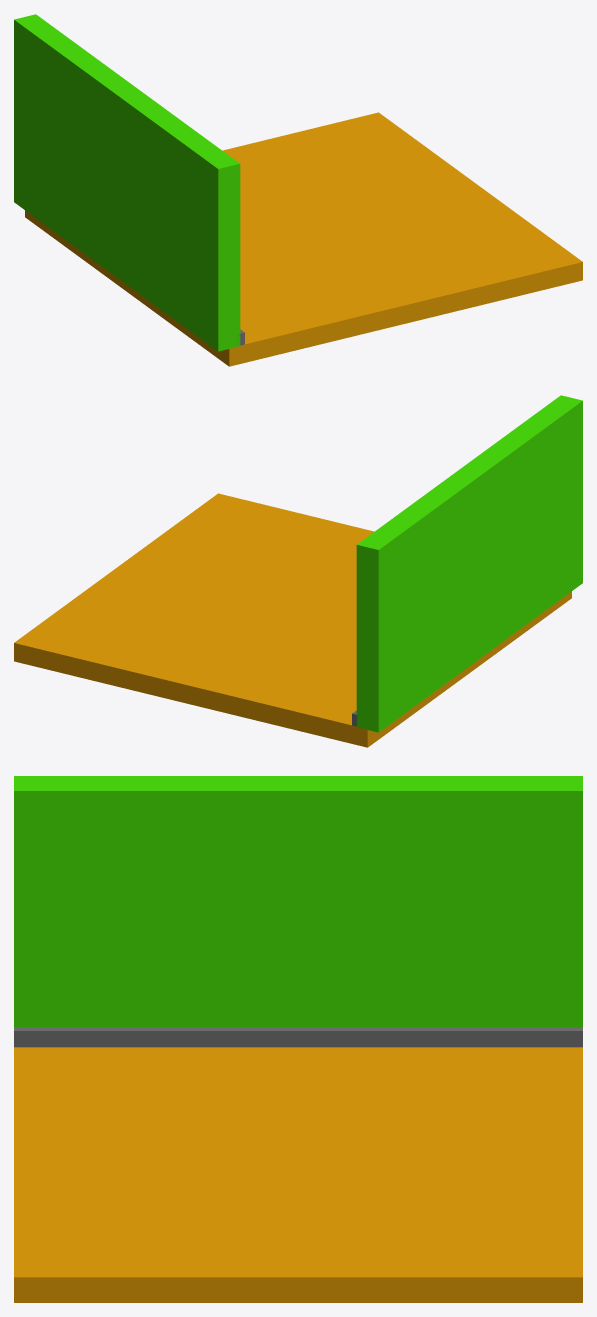
Rendered from TestRoom1.fbx.
3 renders of one model, top to bottom at view 1: azimuth 30°, elevation 25°; view 2: azimuth 150°, elevation 25°; view 3: azimuth 270°, elevation 25°, orthographic. The views are drawn at different scales.
Visible parts, largest first — view 1: pCube1, pCube2; view 2: pCube1, pCube2; view 3: pCube1, pCube2, pCube3.
Part boxes in pixels (<box>): pCube1: <box>25,112,582,366</box>; pCube2: <box>14,14,240,351</box>; pCube1: <box>14,493,571,747</box>; pCube2: <box>356,395,582,732</box>; pCube1: <box>14,1047,582,1302</box>; pCube2: <box>14,776,582,1027</box>; pCube3: <box>14,1027,582,1047</box>.
Size of the model in its own units: 10.31 by 5.41 by 10.
